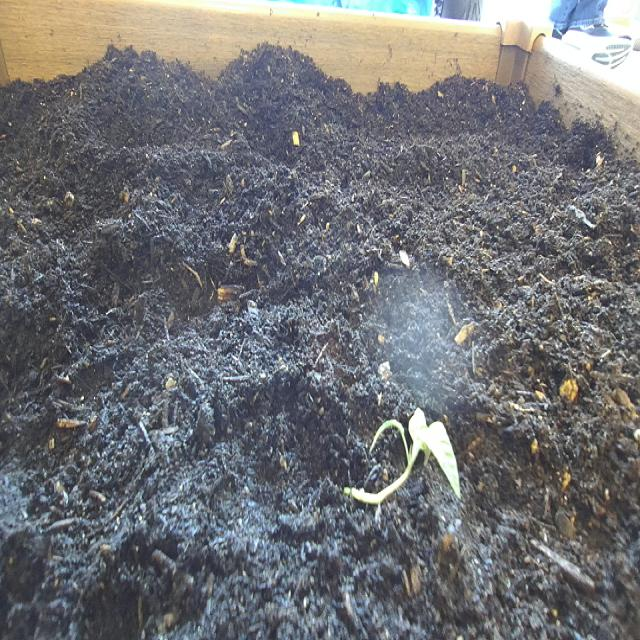Unhealthy: (335, 399, 469, 528)
